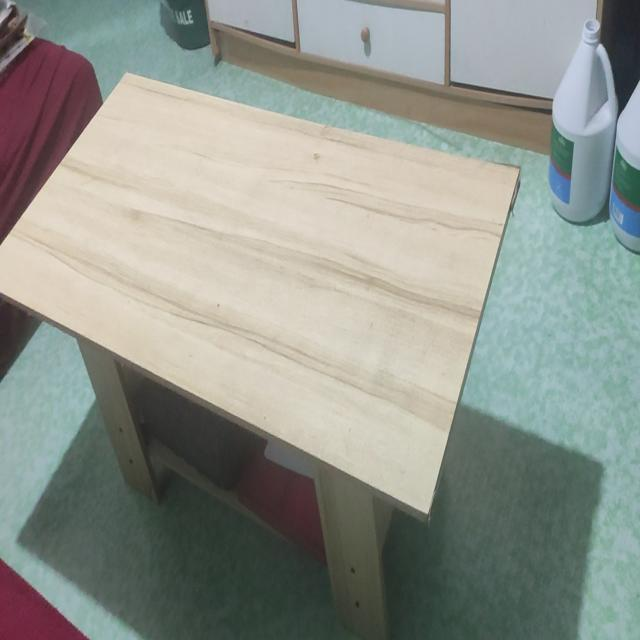table: (0, 65, 522, 640)
